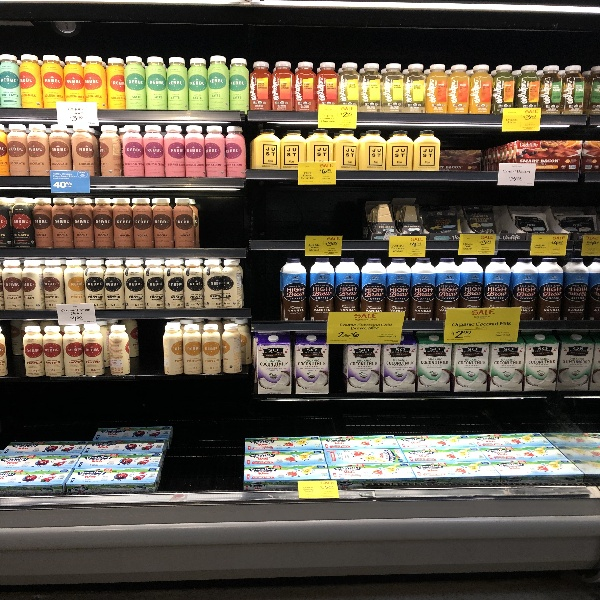void: (172, 394, 241, 490), (254, 193, 367, 240), (198, 199, 245, 248), (248, 260, 280, 321), (131, 321, 163, 376)
